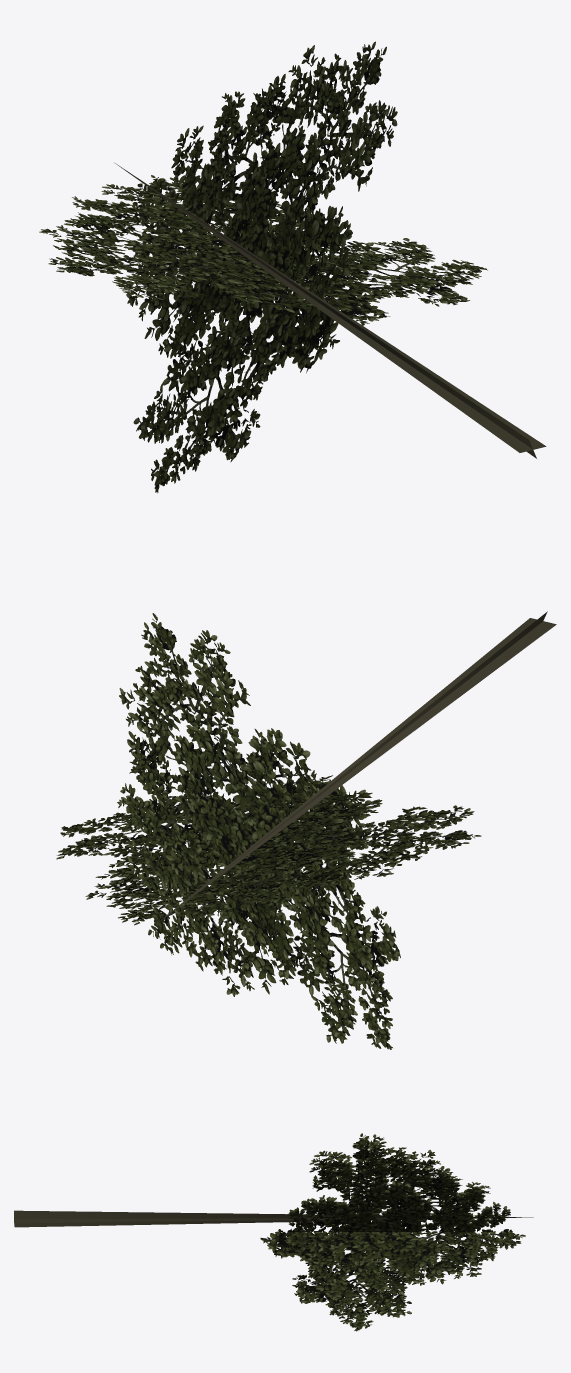
The model's file is Tree_02_j_LOD_02.fbx.
3 renders of one model, top to bottom at view 1: azimuth 30°, elevation 25°; view 2: azimuth 150°, elevation 25°; view 3: azimuth 270°, elevation 25°, orthographic. The views are drawn at different scales.
Parts seen in each view (by area): view 1: MEP_Leafs_02_j_LOD_02; view 2: MEP_Leafs_02_j_LOD_02; view 3: MEP_Leafs_02_j_LOD_02.
Part boxes in pixels (x1=…): MEP_Leafs_02_j_LOD_02: x1=39, y1=41, x2=546, y2=493; MEP_Leafs_02_j_LOD_02: x1=56, y1=611, x2=556, y2=1049; MEP_Leafs_02_j_LOD_02: x1=14, y1=1133, x2=533, y2=1331.
Bounding box in the file's own units: 23.96 × 20.67 × 35.64.
